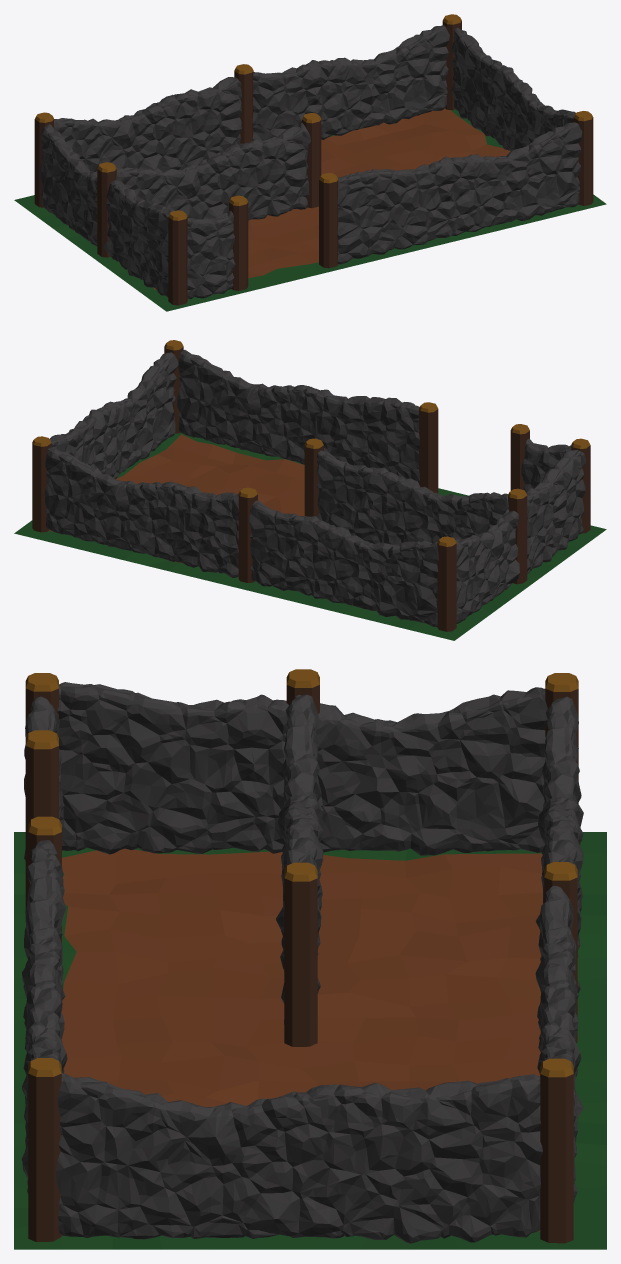
The model's file is Hause5^3Ruin.obj.
3 views of the same model, one above another, from view 1: azimuth 30°, elevation 25°; view 2: azimuth 150°, elevation 25°; view 3: azimuth 270°, elevation 25° (orthographic). The views are drawn at different scales.
Visible parts, largest first — view 1: Plane.007; view 2: Plane.007; view 3: Plane.007.
Boxes of the visible parts, x1,y1,x2,y2 form: Plane.007: [14, 14, 606, 311]; Plane.007: [14, 340, 606, 640]; Plane.007: [14, 669, 606, 1249].
Size of the model in its own units: 10 by 1.97 by 6.
Materials: 1 (1 with a texture image).
